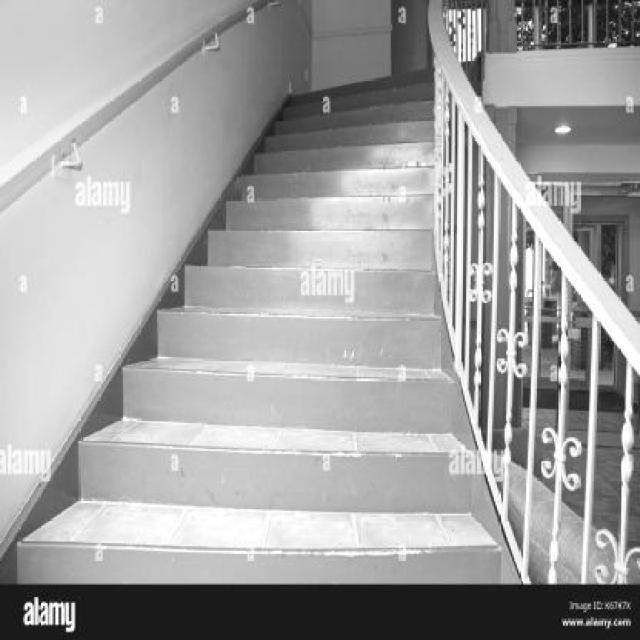stair: (7, 0, 630, 583)
